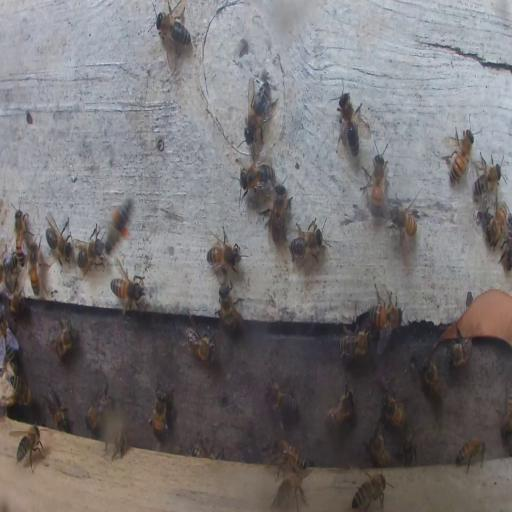nonpollenbee: (244, 82, 277, 142), (362, 144, 388, 218), (444, 126, 476, 184), (156, 2, 192, 52), (75, 222, 107, 277), (336, 89, 361, 158), (12, 422, 44, 473), (206, 229, 242, 274), (266, 182, 292, 243), (183, 317, 217, 363), (44, 213, 72, 268), (470, 149, 502, 197), (288, 220, 324, 262), (387, 196, 419, 242), (110, 273, 144, 316), (353, 472, 389, 512), (324, 385, 356, 430), (265, 374, 298, 416), (84, 386, 113, 433), (368, 296, 402, 336), (219, 280, 242, 332), (273, 474, 307, 508), (239, 161, 274, 194), (454, 437, 486, 473), (51, 316, 76, 362), (379, 388, 407, 429), (366, 425, 392, 467), (338, 328, 371, 361), (270, 439, 308, 467), (486, 202, 510, 246), (46, 383, 68, 430), (496, 378, 512, 440), (422, 355, 444, 397), (26, 238, 42, 294), (6, 371, 32, 405), (445, 336, 473, 367), (151, 388, 167, 438), (2, 248, 22, 283), (1, 314, 17, 350), (106, 431, 127, 458), (7, 289, 27, 316), (13, 211, 25, 252), (402, 437, 416, 467), (192, 438, 214, 457), (502, 228, 512, 269), (2, 351, 16, 374)
pollenbee: (104, 193, 136, 252)
